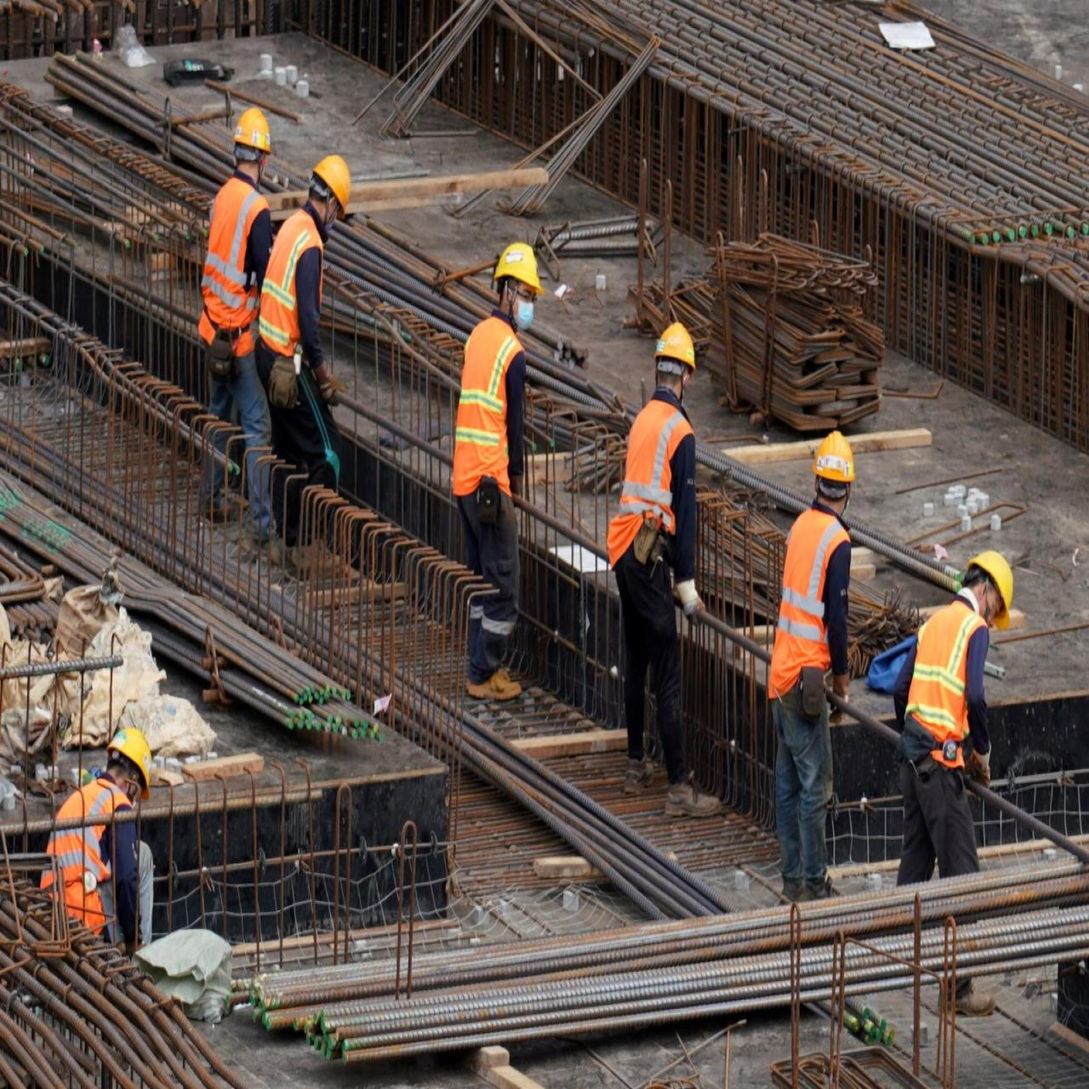Person: (899, 497, 1013, 1032), (752, 419, 869, 907), (595, 289, 706, 798), (446, 214, 551, 692), (256, 130, 355, 549), (194, 92, 277, 529), (38, 730, 160, 949)
Safety_Vest: (610, 396, 695, 571), (46, 772, 134, 934), (771, 506, 845, 692), (449, 317, 524, 497), (910, 611, 991, 769), (196, 180, 268, 348), (263, 206, 330, 361)
